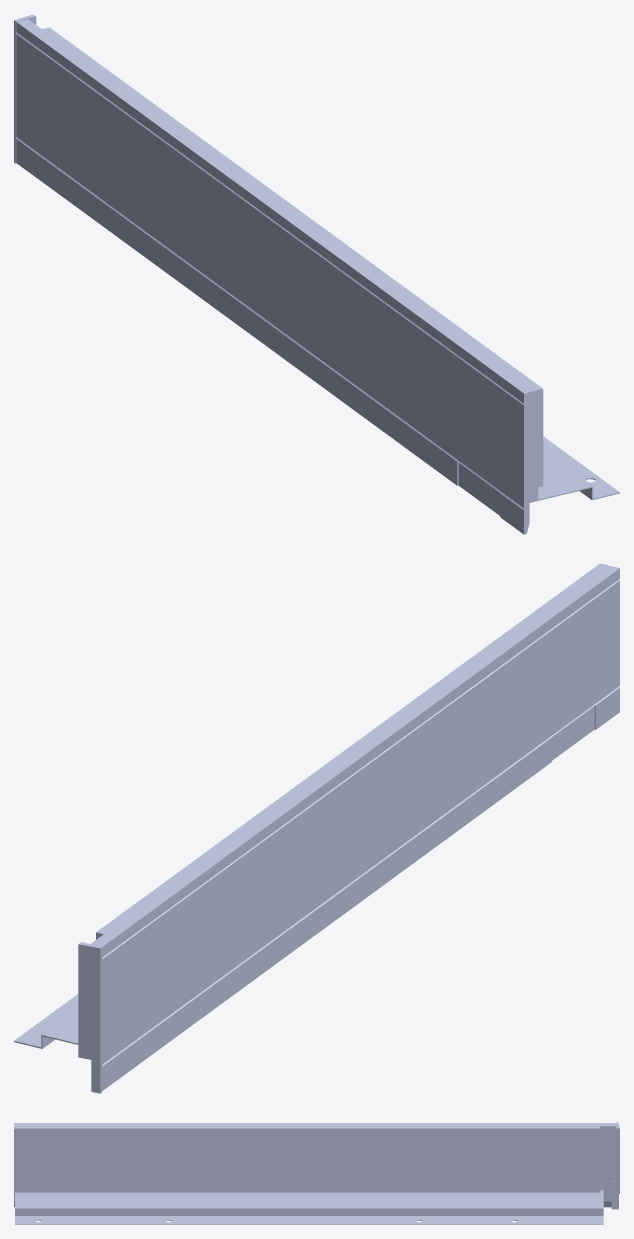
File: lg-kava-M600-p.glb
3 renders of one model, top to bottom at view 1: azimuth 30°, elevation 25°; view 2: azimuth 150°, elevation 25°; view 3: azimuth 270°, elevation 25°, orthographic. The views are drawn at different scales.
Visible parts, largest first — view 1: 45310520; view 2: 45310520; view 3: 45310520.
Boxes of the visible parts, x1=… form: 45310520: x1=14, y1=14, x2=619, y2=534; 45310520: x1=14, y1=563, x2=619, y2=1093; 45310520: x1=14, y1=1122, x2=619, y2=1224.
Bounding box in the file's own units: 0.0653 × 0.0912 × 0.5935.
